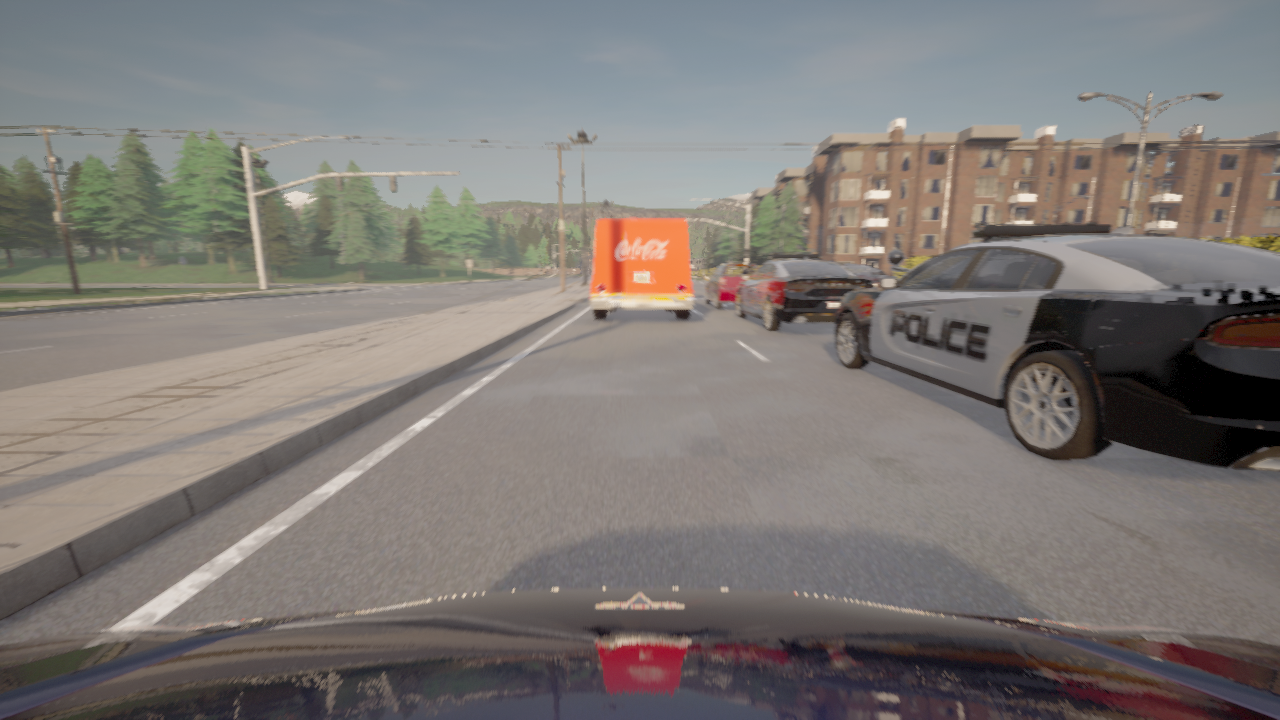cyclist: (0, 588, 1279, 719), (835, 223, 1279, 470), (736, 253, 873, 331), (589, 219, 694, 319), (705, 264, 757, 309), (841, 265, 887, 288)
